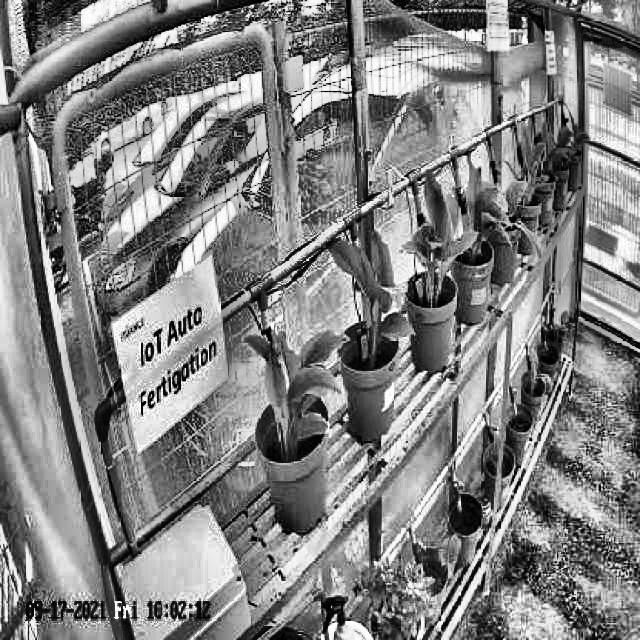plants: (247, 328, 350, 460), (324, 224, 416, 370), (398, 169, 480, 308), (466, 161, 514, 265)
